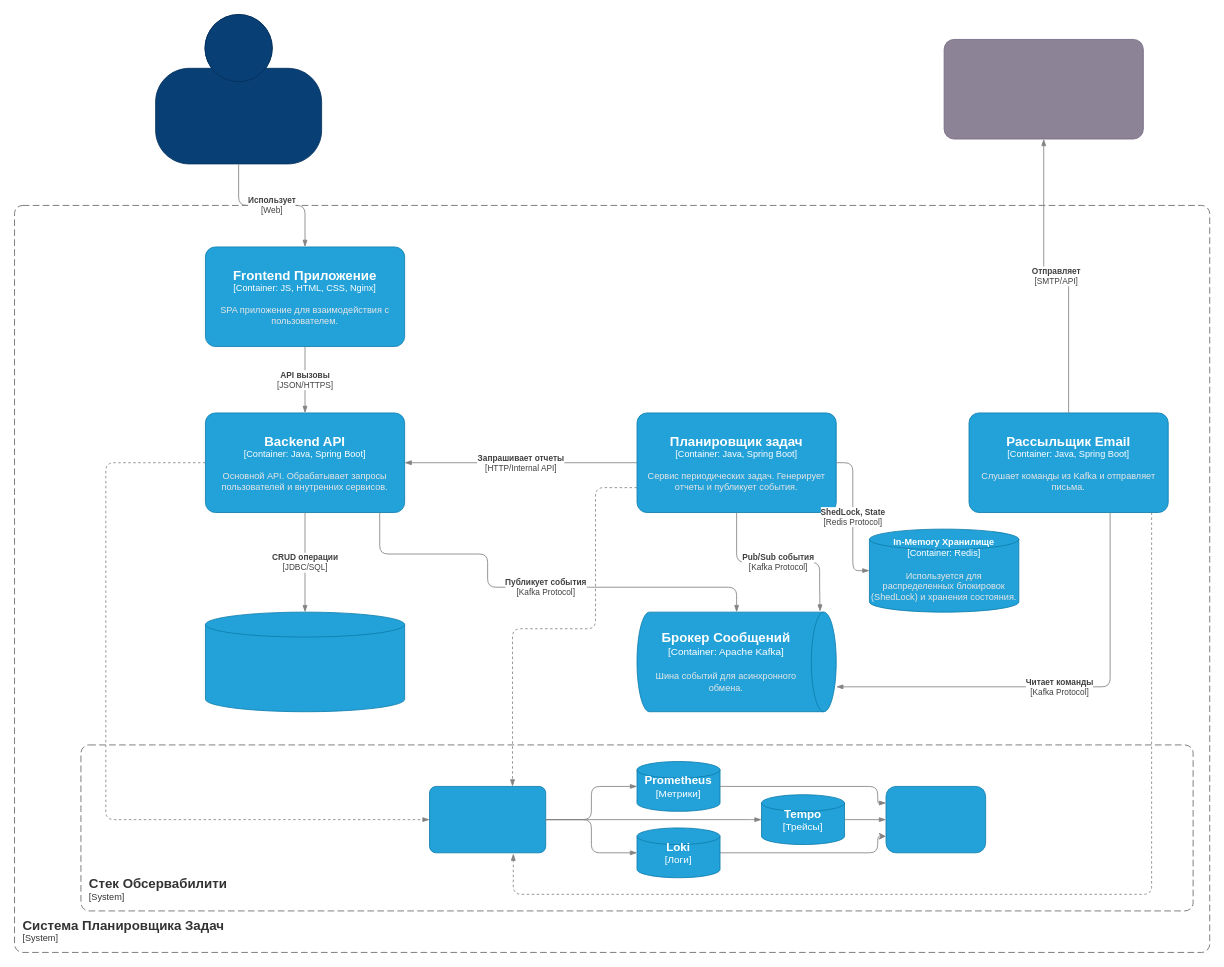
Image size: 1224x967. Some labels were removed from this diagram. The centre of each missing label's shape, as x and y in pixels:
"Email Сервис [Software System] Внешний сервис (Mailjet) для отправки email." belongs at point 1043,89.
"Grafana [UI]" belongs at point 935,819.
"OTel Collector [Container]" belongs at point 487,819.
"База Данных [Container: PostgreSQL] Хранит данные пользователей и задач." belongs at point 305,661.
"Пользователь [Person] Человек, управляющий своими задачами." belongs at point 238,89.
